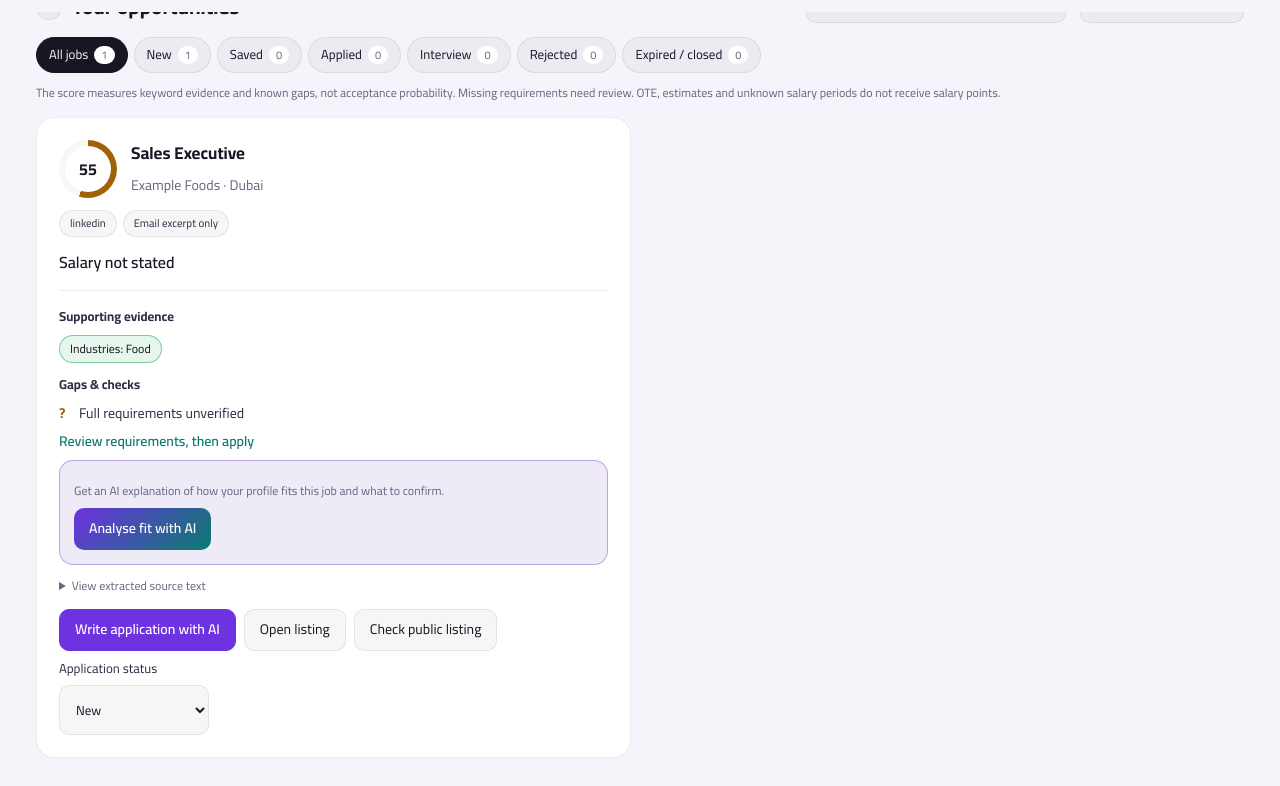
Test: Career assistant › runs an AI fit analysis in the page language and shows it on the job
(page scrolled)
expect the heading "Sales Executive" is shown: met, box [131,141,263,166]
Click the button "Analyse fit with AI": (143,529) [74,508,211,550]
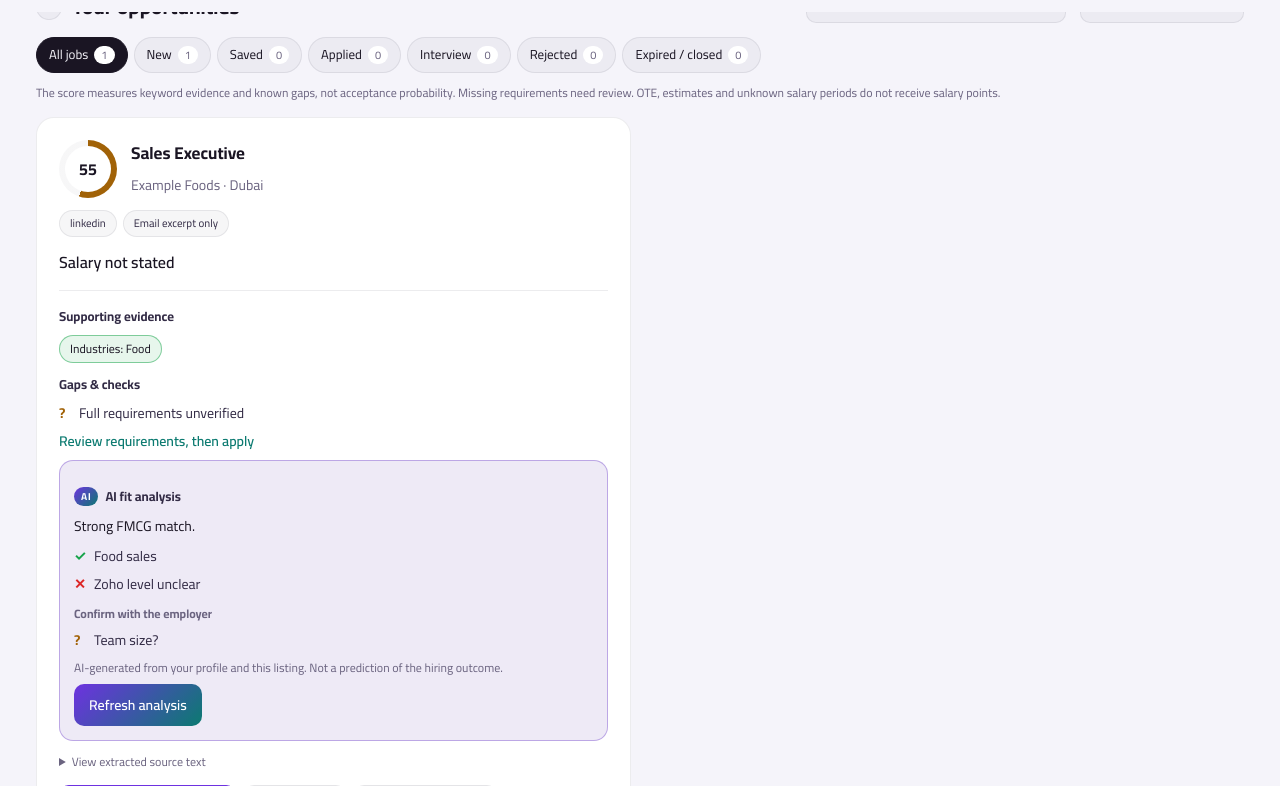
expect the text "Strong FMCG match." is shown: met, box [74,513,195,539]
expect the list item "Zoho level unclear" is shown: met, box [94,571,200,597]
expect the button "Refresh analysis" is shown: met, box [74,684,202,726]
